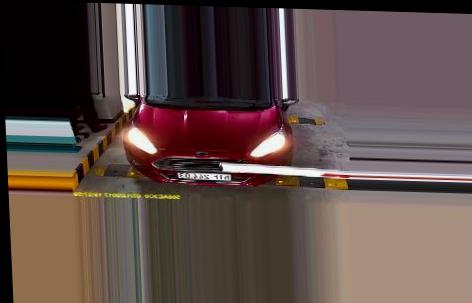License_Plate: (174, 171, 234, 183)
